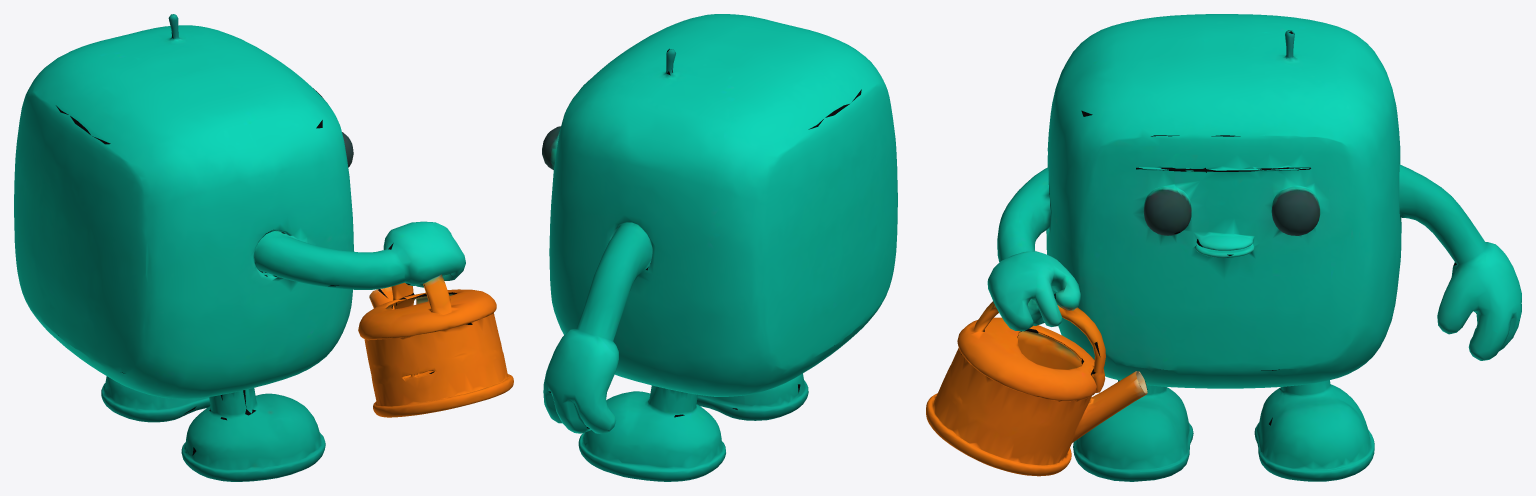
The picture shows the model from 3 angles, left to right: view 1: azimuth 30°, elevation 25°; view 2: azimuth 150°, elevation 25°; view 3: azimuth 270°, elevation 25°; orthographic projection. The views are drawn at different scales.
Visible parts, largest first — view 1: tripo_node_d971d1f7-b1b4-42b7-8bdd-3a7ecbd1494a; view 2: tripo_node_d971d1f7-b1b4-42b7-8bdd-3a7ecbd1494a; view 3: tripo_node_d971d1f7-b1b4-42b7-8bdd-3a7ecbd1494a.
Boxes of the visible parts, left/top/right/bottom form: tripo_node_d971d1f7-b1b4-42b7-8bdd-3a7ecbd1494a: left=14, top=14, right=513, bottom=481; tripo_node_d971d1f7-b1b4-42b7-8bdd-3a7ecbd1494a: left=542, top=14, right=897, bottom=481; tripo_node_d971d1f7-b1b4-42b7-8bdd-3a7ecbd1494a: left=926, top=14, right=1521, bottom=481.
Size of the model in its own units: 0.698 by 0.7778 by 0.9993.
Materials: 1 (1 with a texture image).
